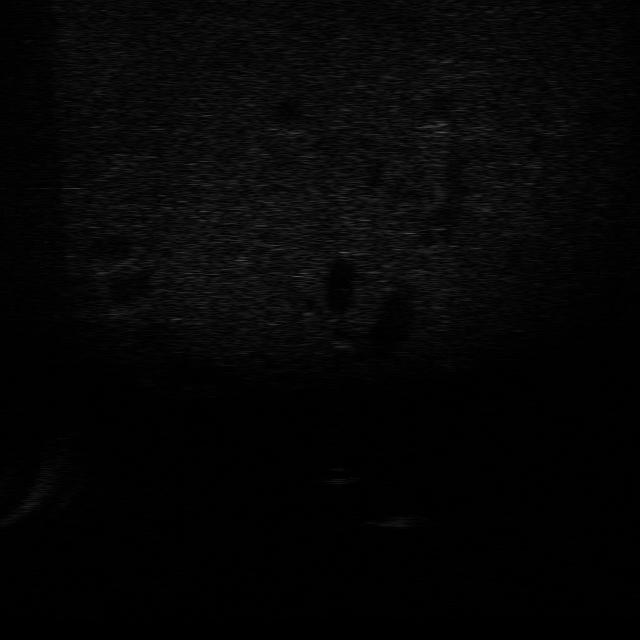ball: (310, 464, 362, 493)
square cage: (362, 508, 427, 536)
